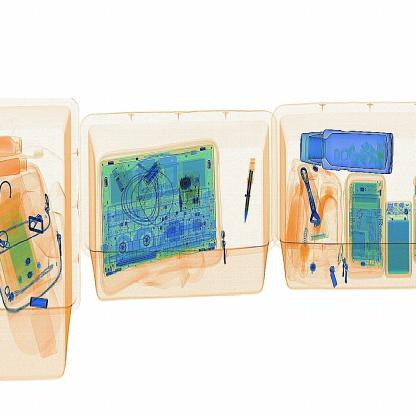gun: (233, 149, 267, 227)
